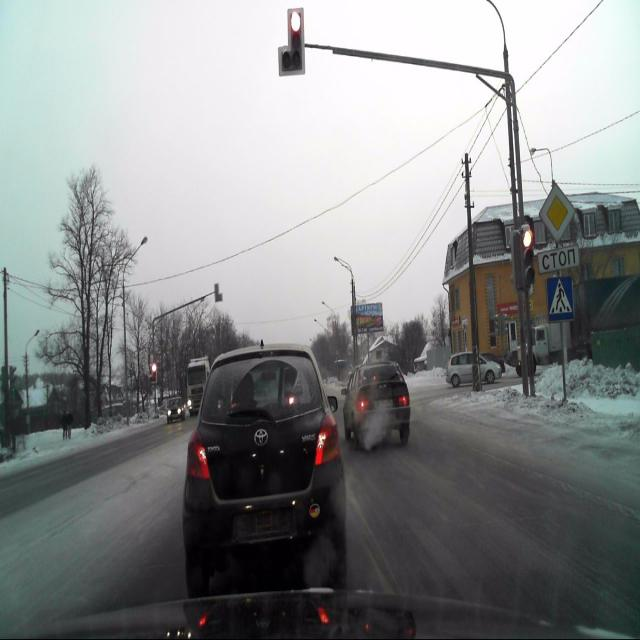object: (559, 325, 567, 401)
road sign: (540, 182, 574, 241), (545, 275, 575, 323), (538, 244, 579, 274)
